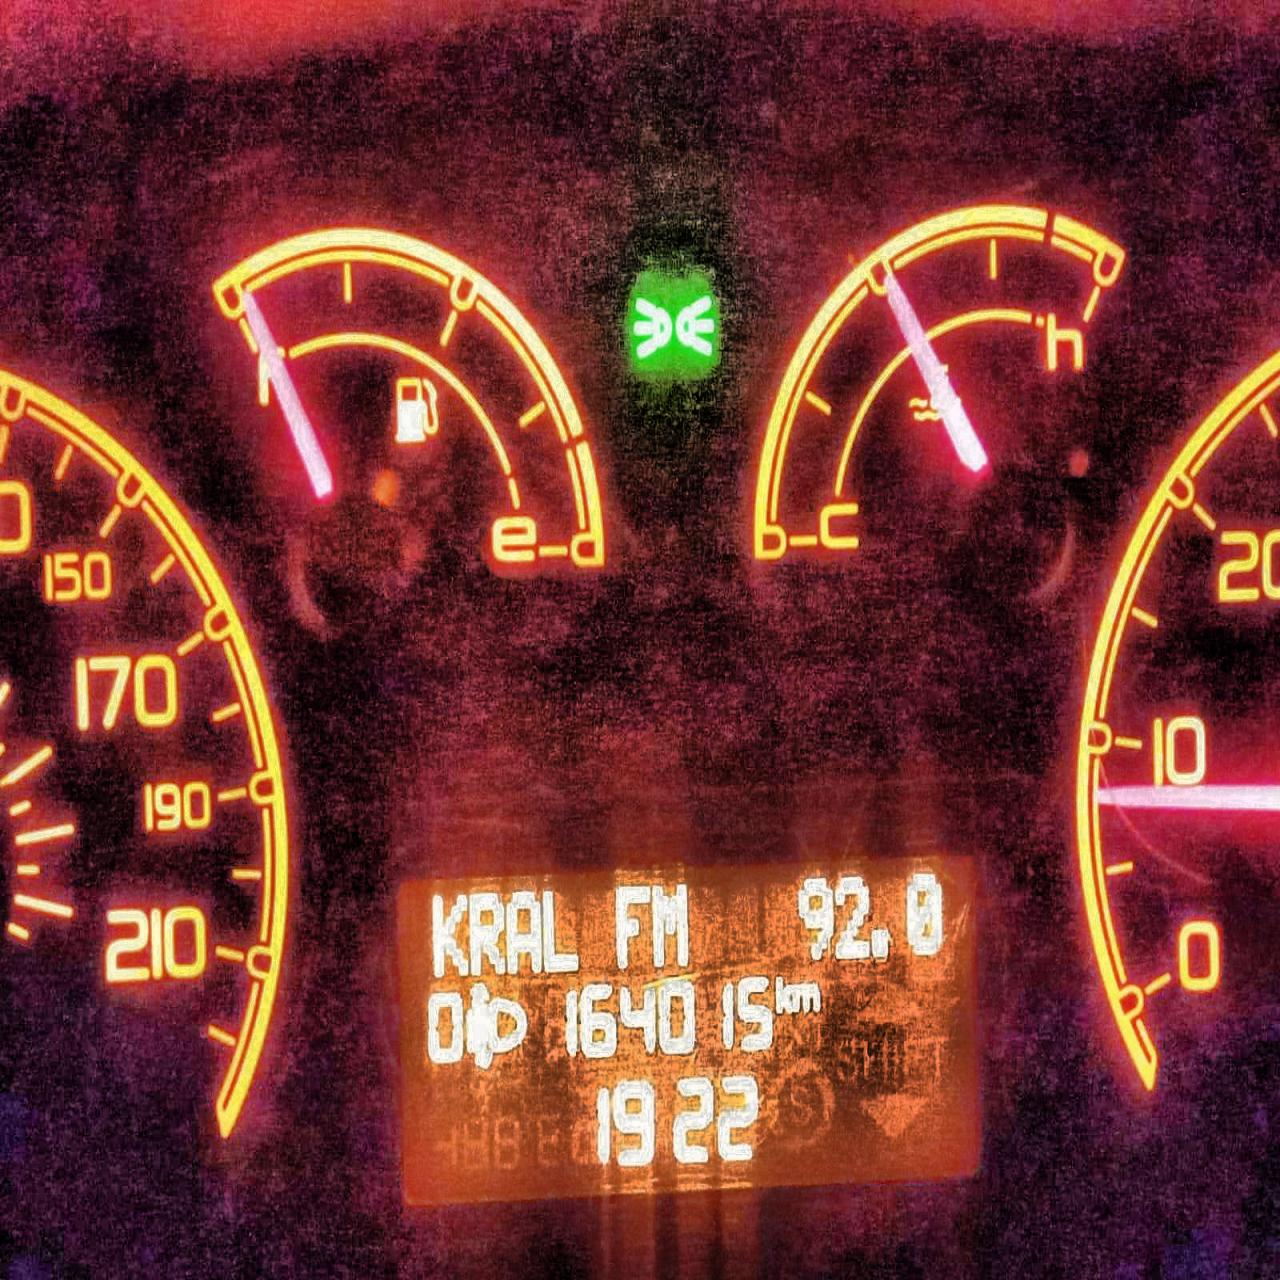-: (870, 926, 894, 962)
0: (905, 870, 946, 958), (656, 978, 694, 1056), (427, 989, 463, 1064)
1: (595, 1085, 610, 1166), (563, 988, 579, 1057), (720, 979, 734, 1051)
2: (673, 1074, 714, 1165), (717, 1074, 757, 1159), (832, 873, 870, 959)
4: (618, 985, 655, 1056)
5: (738, 975, 771, 1050)
6: (580, 981, 615, 1060)
9: (611, 1077, 656, 1169), (796, 874, 833, 958)
X: (542, 884, 580, 974), (429, 891, 467, 981), (653, 881, 693, 964), (614, 883, 652, 969), (505, 885, 542, 974), (469, 887, 504, 975), (794, 980, 821, 1014), (774, 974, 792, 1016)
odometer: (383, 851, 999, 1206)
